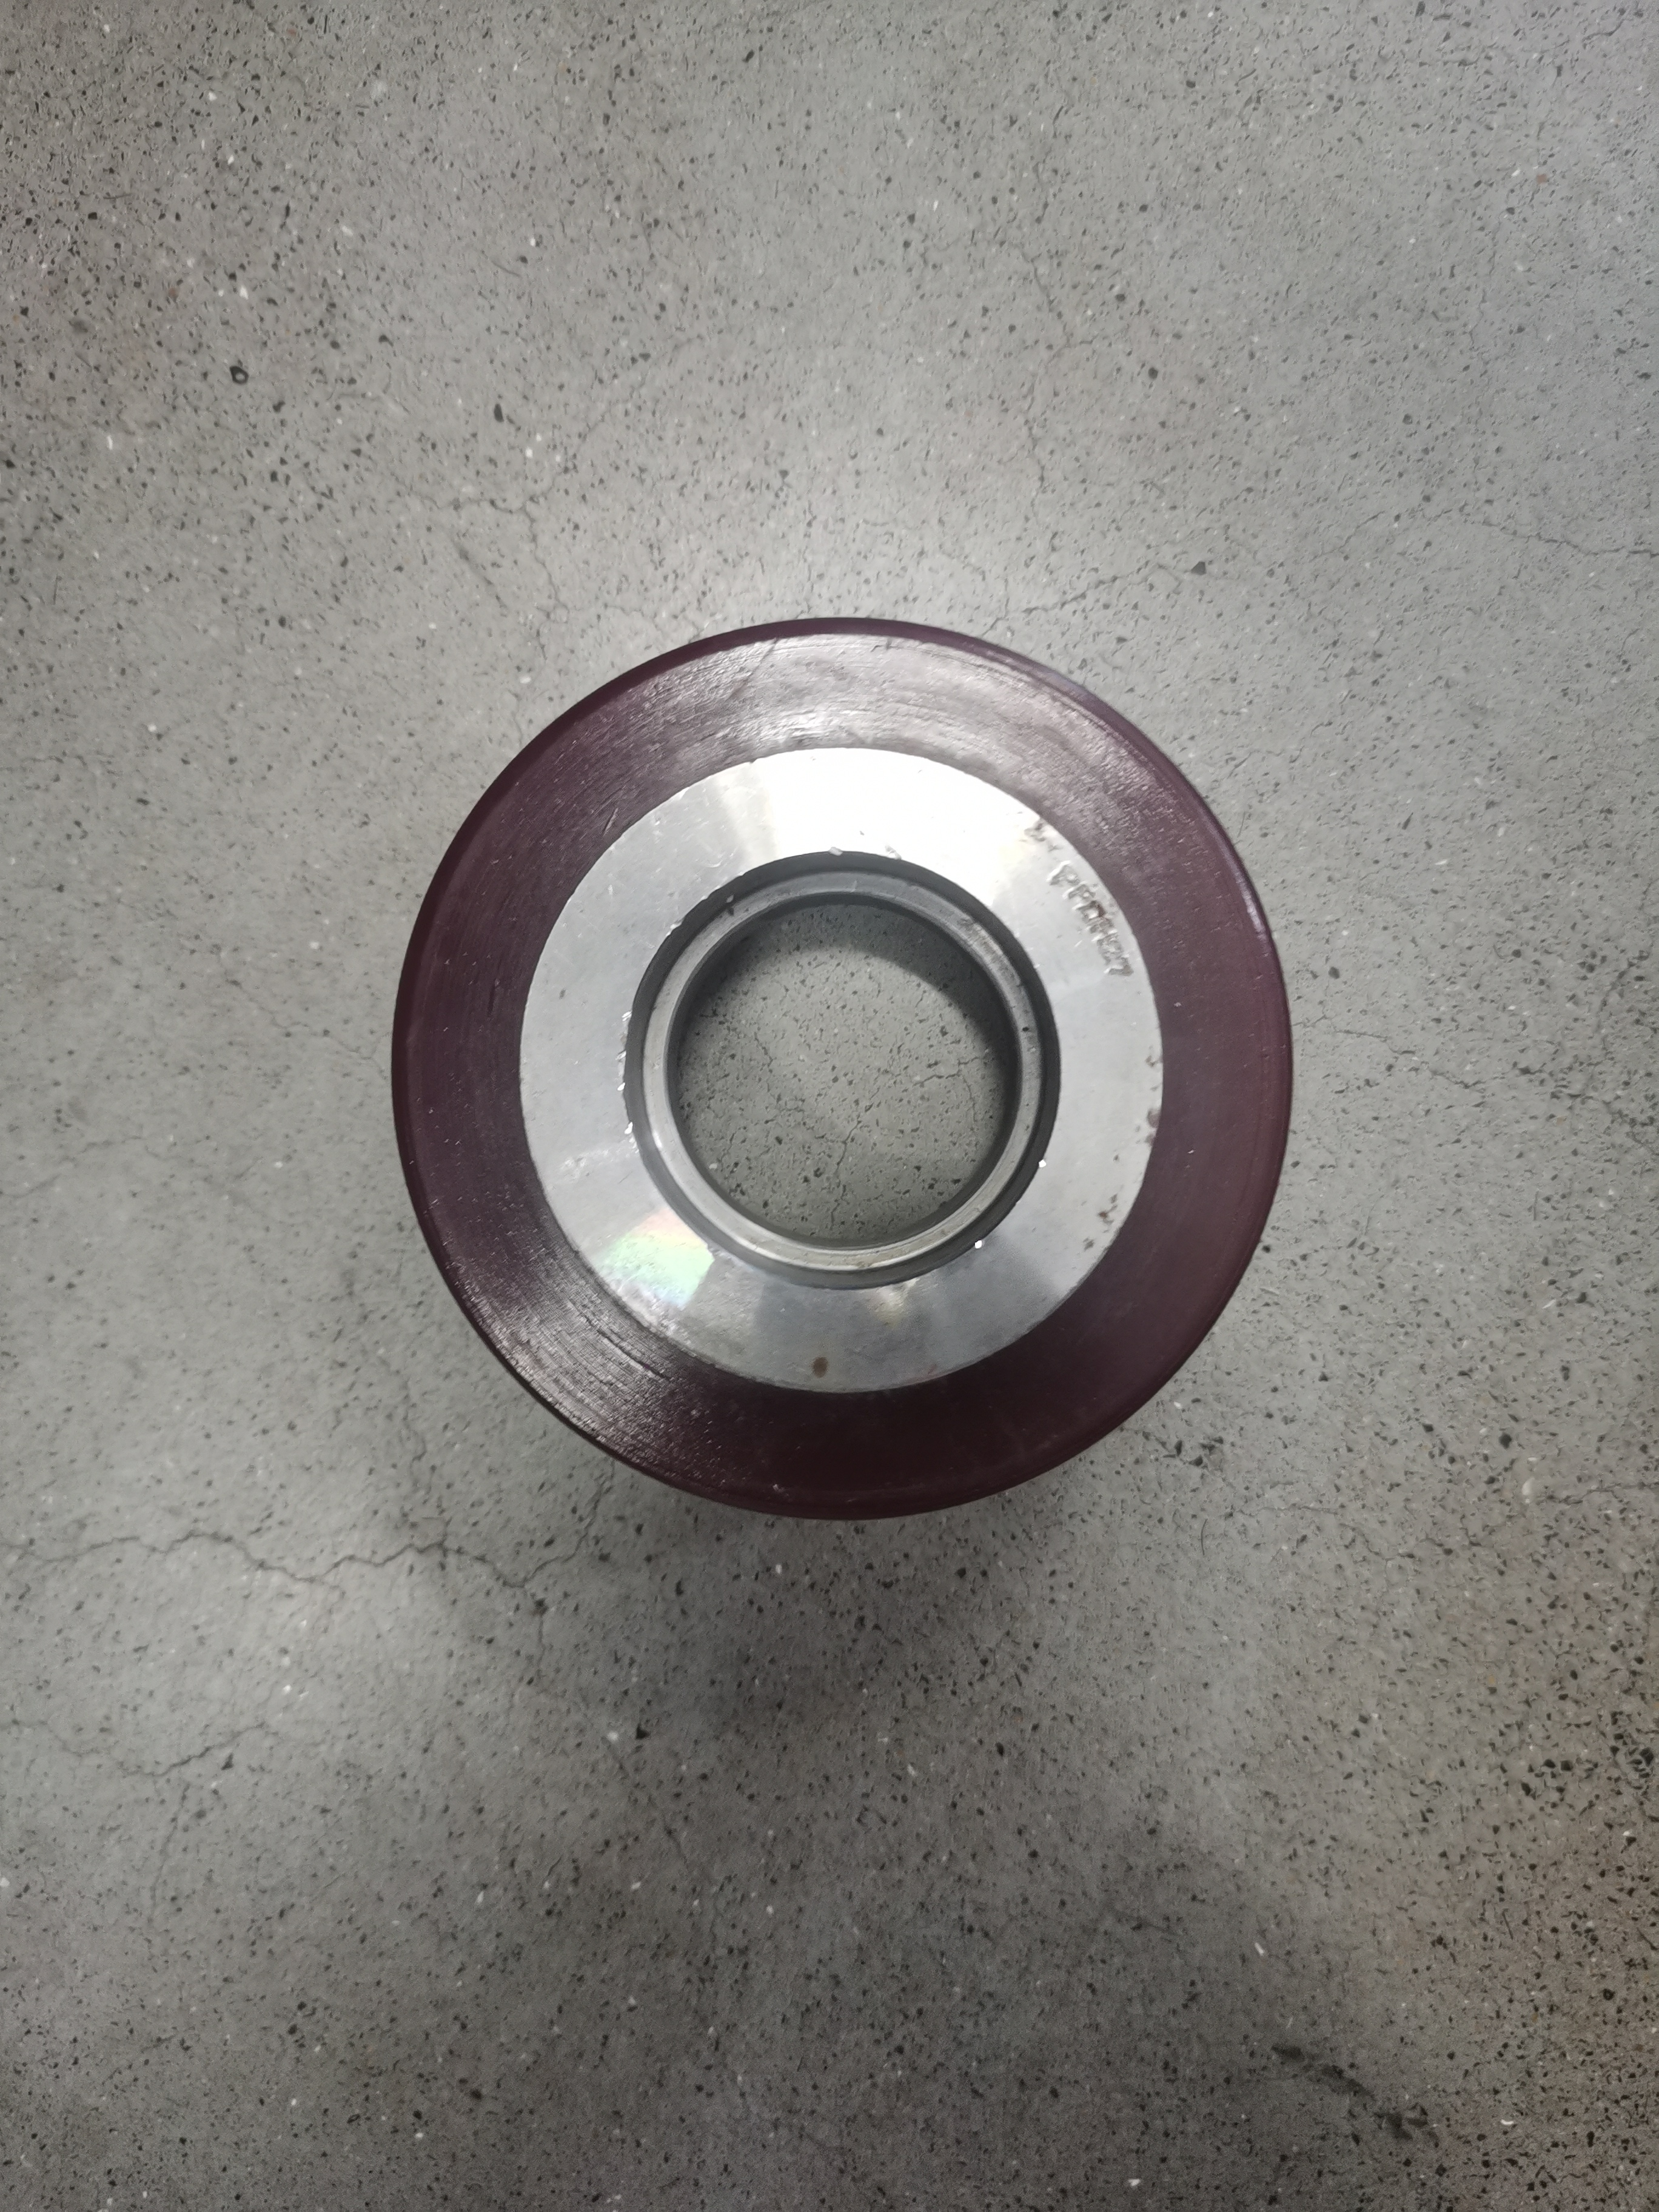good_wheel: (291, 583, 1358, 1533)
